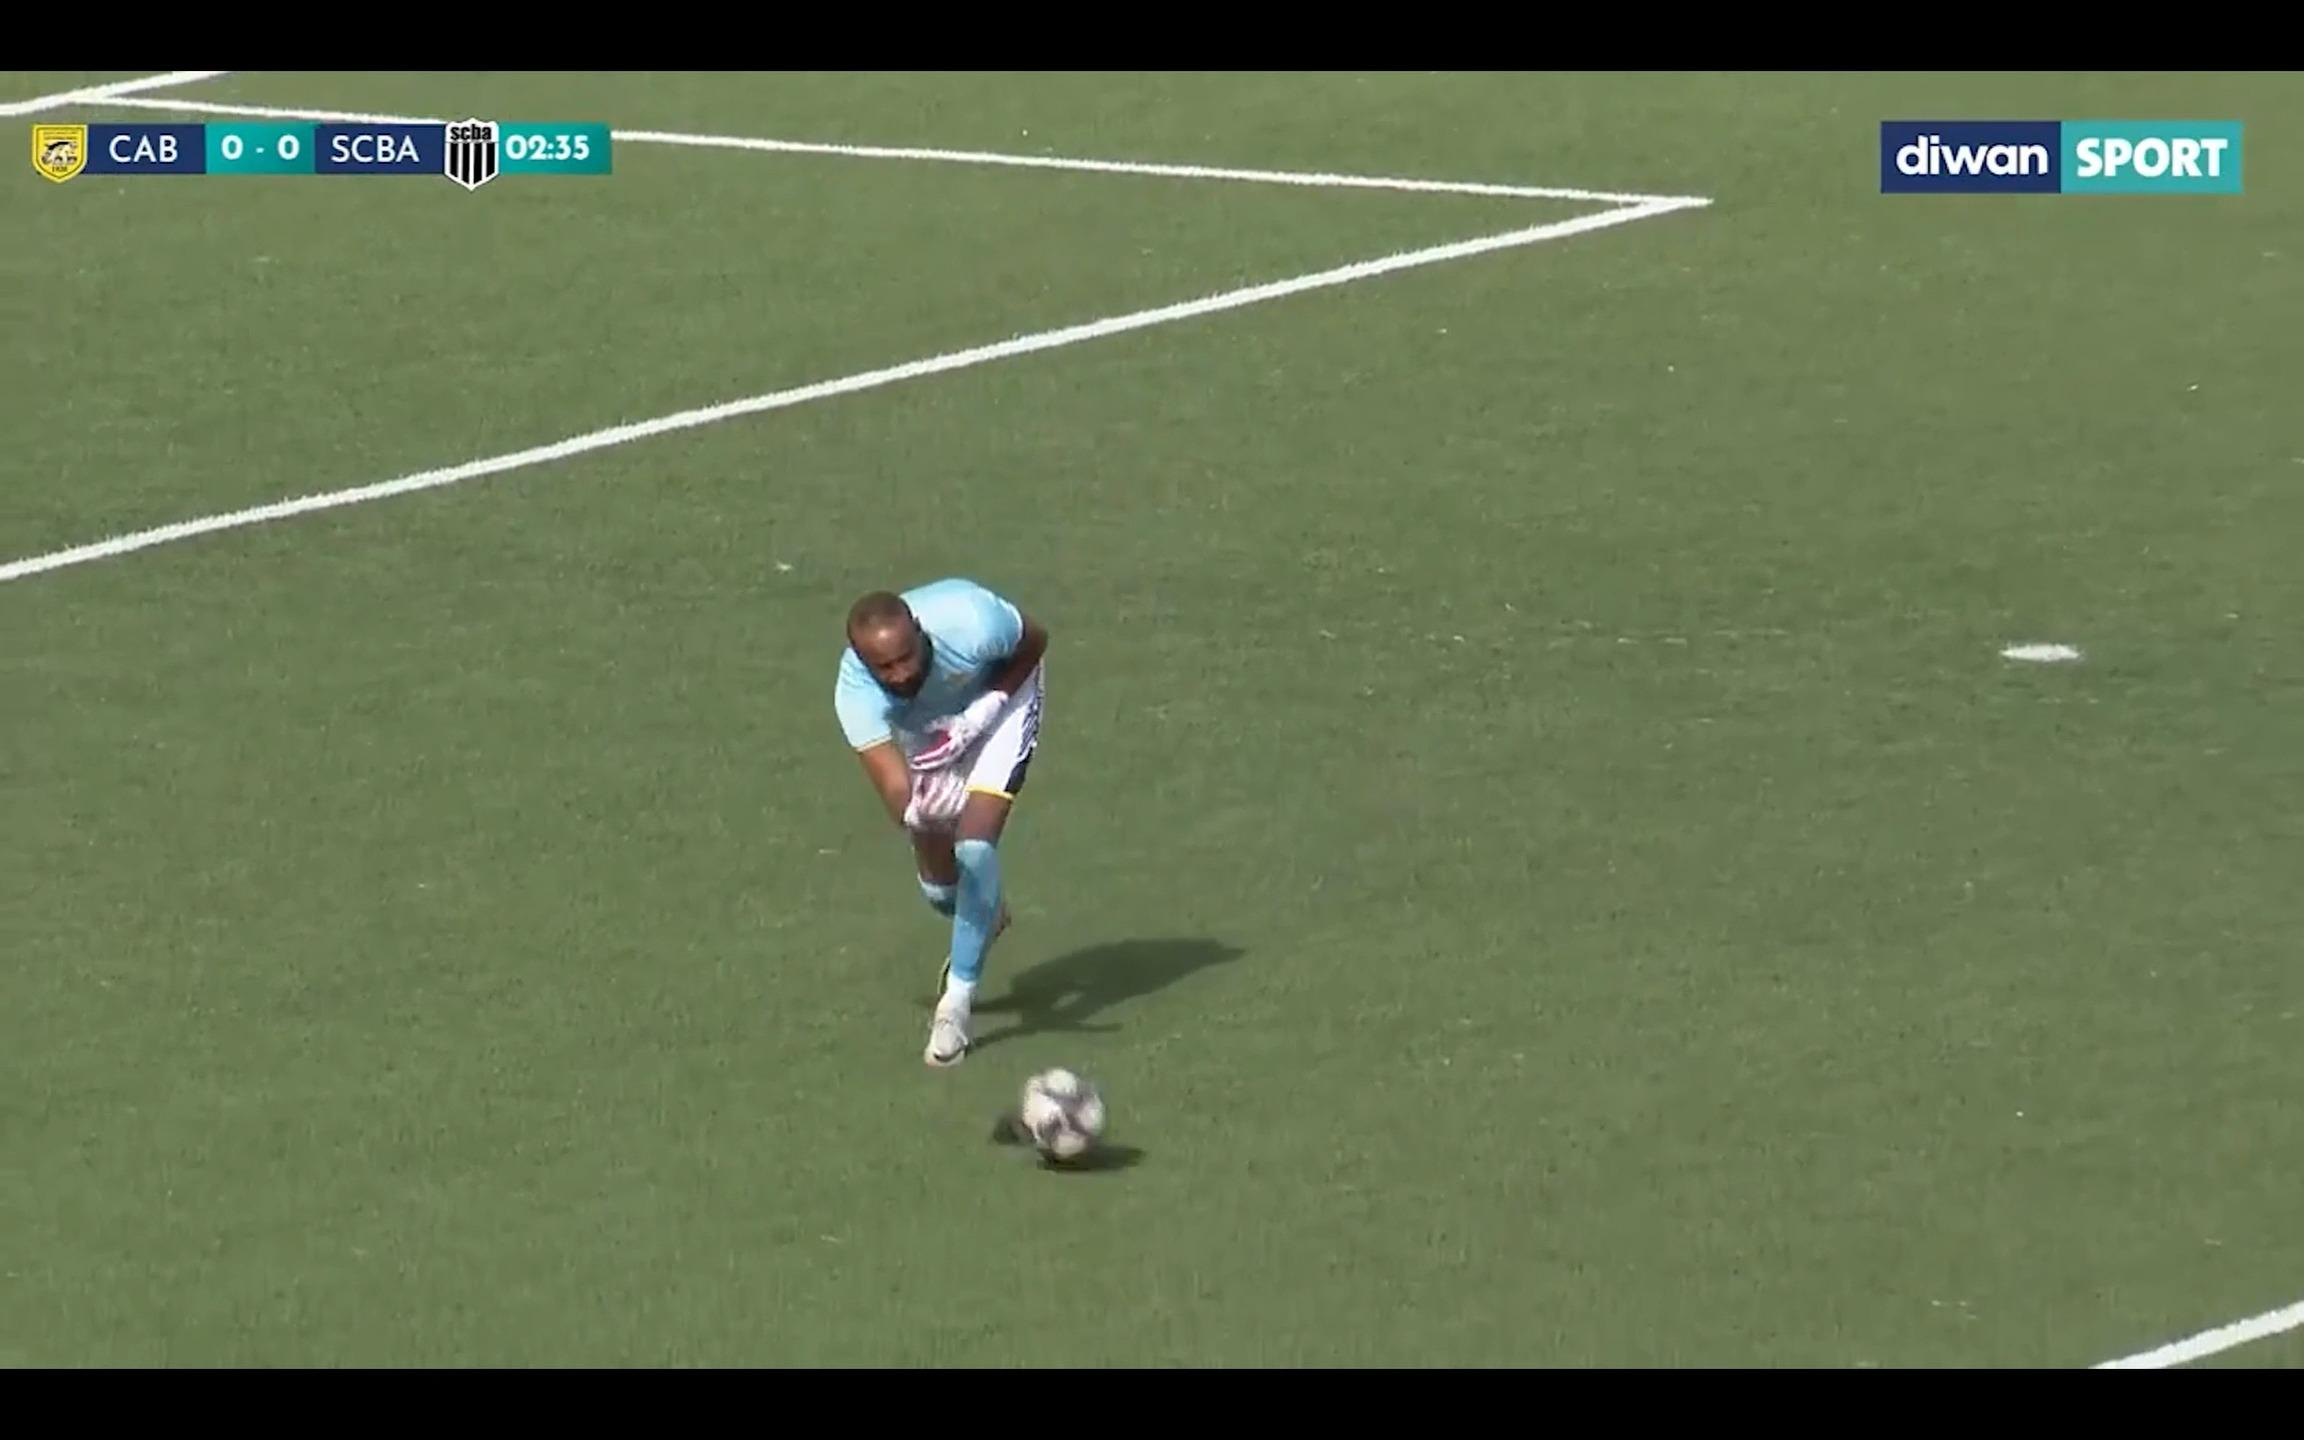ball: (1005, 1048, 1146, 1183)
goalkeeper: (800, 514, 1043, 1077)
